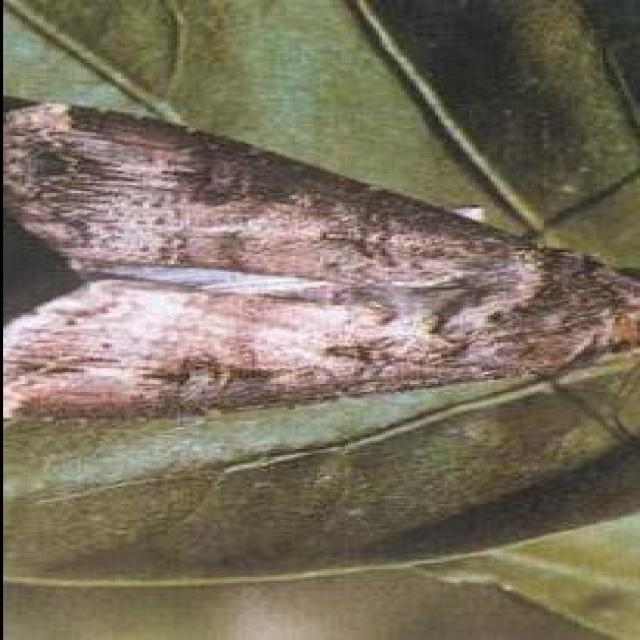black cutworm: (7, 99, 640, 466)
